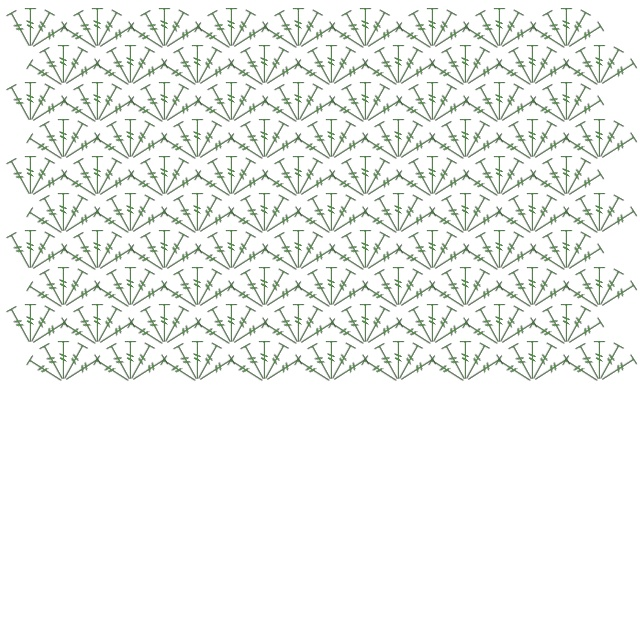fan: (27, 19, 70, 54), (59, 19, 102, 54), (94, 19, 137, 54), (126, 19, 169, 54), (161, 19, 204, 54), (193, 19, 236, 54), (228, 19, 271, 54), (260, 19, 303, 54), (295, 19, 338, 54), (327, 19, 370, 54), (362, 19, 405, 54), (394, 19, 437, 54), (429, 19, 472, 54), (461, 19, 504, 54), (496, 19, 539, 54), (528, 19, 571, 54), (563, 19, 606, 54), (25, 56, 68, 91), (60, 56, 103, 91), (92, 56, 135, 91), (127, 56, 170, 91), (159, 56, 202, 91), (194, 56, 237, 91), (226, 56, 269, 91), (261, 56, 304, 91), (293, 56, 336, 91), (328, 56, 371, 91), (360, 56, 403, 91), (395, 56, 438, 91), (427, 56, 470, 91), (462, 56, 505, 91), (494, 56, 537, 91), (529, 56, 572, 91), (561, 56, 604, 91), (596, 56, 639, 91), (27, 93, 70, 128), (59, 93, 102, 128), (94, 93, 137, 128), (126, 93, 169, 128), (161, 93, 204, 128), (193, 93, 236, 128), (228, 93, 271, 128), (260, 93, 303, 128), (295, 93, 338, 128), (327, 93, 370, 128), (362, 93, 405, 128), (394, 93, 437, 128), (429, 93, 472, 128), (461, 93, 504, 128), (496, 93, 539, 128), (528, 93, 571, 128), (563, 93, 606, 128), (25, 130, 68, 165), (60, 130, 103, 165), (92, 130, 135, 165), (127, 130, 170, 165), (159, 130, 202, 165), (194, 130, 237, 165), (226, 130, 269, 165), (261, 130, 304, 165), (293, 130, 336, 165), (328, 130, 371, 165), (360, 130, 403, 165), (395, 130, 438, 165), (427, 130, 470, 165), (462, 130, 505, 165), (494, 130, 537, 165), (529, 130, 572, 165), (561, 130, 604, 165), (596, 130, 639, 165), (27, 167, 70, 202), (59, 167, 102, 202), (94, 167, 137, 202), (126, 167, 169, 202), (161, 167, 204, 202), (193, 167, 236, 202), (228, 167, 271, 202), (260, 167, 303, 202), (295, 167, 338, 202), (327, 167, 370, 202), (362, 167, 405, 202), (394, 167, 437, 202), (429, 167, 472, 202), (461, 167, 504, 202), (496, 167, 539, 202), (528, 167, 571, 202), (563, 167, 606, 202), (25, 204, 68, 239), (60, 204, 103, 239), (92, 204, 135, 239), (127, 204, 170, 239), (159, 204, 202, 239), (194, 204, 237, 239), (226, 204, 269, 239), (261, 204, 304, 239), (293, 204, 336, 239), (328, 204, 371, 239), (360, 204, 403, 239), (395, 204, 438, 239), (427, 204, 470, 239), (462, 204, 505, 239), (494, 204, 537, 239), (529, 204, 572, 239), (561, 204, 604, 239), (596, 204, 639, 239), (27, 241, 70, 276), (59, 241, 102, 276), (94, 241, 137, 276), (126, 241, 169, 276), (161, 241, 204, 276), (193, 241, 236, 276), (228, 241, 271, 276), (260, 241, 303, 276), (295, 241, 338, 276), (327, 241, 370, 276), (362, 241, 405, 276), (394, 241, 437, 276), (429, 241, 472, 276), (461, 241, 504, 276), (496, 241, 539, 276), (528, 241, 571, 276), (563, 241, 606, 276), (25, 278, 68, 313), (60, 278, 103, 313), (92, 278, 135, 313), (127, 278, 170, 313), (159, 278, 202, 313), (194, 278, 237, 313), (226, 278, 269, 313), (261, 278, 304, 313), (293, 278, 336, 313), (328, 278, 371, 313), (360, 278, 403, 313), (395, 278, 438, 313), (427, 278, 470, 313), (462, 278, 505, 313), (494, 278, 537, 313), (529, 278, 572, 313), (561, 278, 604, 313), (596, 278, 639, 313), (27, 315, 70, 350), (59, 315, 102, 350), (94, 315, 137, 350), (126, 315, 169, 350), (161, 315, 204, 350), (193, 315, 236, 350), (228, 315, 271, 350), (260, 315, 303, 350), (295, 315, 338, 350), (327, 315, 370, 350), (362, 315, 405, 350), (394, 315, 437, 350), (429, 315, 472, 350), (461, 315, 504, 350), (496, 315, 539, 350), (528, 315, 571, 350), (563, 315, 606, 350), (25, 352, 68, 387), (60, 352, 103, 387), (92, 352, 135, 387), (127, 352, 170, 387), (159, 352, 202, 387), (194, 352, 237, 387), (226, 352, 269, 387), (261, 352, 304, 387), (293, 352, 336, 387), (328, 352, 371, 387), (360, 352, 403, 387), (395, 352, 438, 387), (427, 352, 470, 387), (462, 352, 505, 387), (494, 352, 537, 387), (529, 352, 572, 387), (561, 352, 604, 387), (596, 352, 639, 387), (4, 8, 38, 52), (24, 8, 58, 52), (71, 8, 105, 52), (91, 8, 125, 52), (138, 8, 172, 52), (158, 8, 192, 52), (205, 8, 239, 52), (225, 8, 259, 52), (272, 8, 306, 52), (292, 8, 326, 52), (339, 8, 373, 52), (359, 8, 393, 52), (406, 8, 440, 52), (426, 8, 460, 52), (473, 8, 507, 52), (493, 8, 527, 52), (540, 8, 574, 52), (560, 8, 594, 52), (37, 45, 71, 89), (57, 45, 91, 89), (104, 45, 138, 89), (124, 45, 158, 89), (171, 45, 205, 89), (191, 45, 225, 89), (238, 45, 272, 89), (258, 45, 292, 89), (305, 45, 339, 89), (325, 45, 359, 89), (372, 45, 406, 89), (392, 45, 426, 89), (439, 45, 473, 89), (459, 45, 493, 89), (506, 45, 540, 89), (526, 45, 560, 89), (573, 45, 607, 89), (593, 45, 627, 89), (4, 82, 38, 126), (24, 82, 58, 126), (71, 82, 105, 126), (91, 82, 125, 126), (138, 82, 172, 126), (158, 82, 192, 126), (205, 82, 239, 126), (225, 82, 259, 126), (272, 82, 306, 126), (292, 82, 326, 126), (339, 82, 373, 126), (359, 82, 393, 126), (406, 82, 440, 126), (426, 82, 460, 126), (473, 82, 507, 126), (493, 82, 527, 126), (540, 82, 574, 126), (560, 82, 594, 126), (37, 119, 71, 163), (57, 119, 91, 163), (104, 119, 138, 163), (124, 119, 158, 163), (171, 119, 205, 163), (191, 119, 225, 163), (238, 119, 272, 163), (258, 119, 292, 163), (305, 119, 339, 163), (325, 119, 359, 163), (372, 119, 406, 163), (392, 119, 426, 163), (439, 119, 473, 163), (459, 119, 493, 163), (506, 119, 540, 163), (526, 119, 560, 163), (573, 119, 607, 163), (593, 119, 627, 163), (4, 156, 38, 200), (24, 156, 58, 200), (71, 156, 105, 200), (91, 156, 125, 200), (138, 156, 172, 200), (158, 156, 192, 200), (205, 156, 239, 200), (225, 156, 259, 200), (272, 156, 306, 200), (292, 156, 326, 200), (339, 156, 373, 200), (359, 156, 393, 200), (406, 156, 440, 200), (426, 156, 460, 200), (473, 156, 507, 200), (493, 156, 527, 200), (540, 156, 574, 200), (560, 156, 594, 200), (37, 193, 71, 237), (57, 193, 91, 237), (104, 193, 138, 237), (124, 193, 158, 237), (171, 193, 205, 237), (191, 193, 225, 237), (238, 193, 272, 237), (258, 193, 292, 237), (305, 193, 339, 237), (325, 193, 359, 237), (372, 193, 406, 237), (392, 193, 426, 237), (439, 193, 473, 237), (459, 193, 493, 237), (506, 193, 540, 237), (526, 193, 560, 237), (573, 193, 607, 237), (593, 193, 627, 237), (4, 230, 38, 274), (24, 230, 58, 274), (71, 230, 105, 274), (91, 230, 125, 274), (138, 230, 172, 274), (158, 230, 192, 274), (205, 230, 239, 274), (225, 230, 259, 274), (272, 230, 306, 274), (292, 230, 326, 274), (339, 230, 373, 274), (359, 230, 393, 274), (406, 230, 440, 274), (426, 230, 460, 274), (473, 230, 507, 274), (493, 230, 527, 274), (540, 230, 574, 274), (560, 230, 594, 274), (37, 267, 71, 311), (57, 267, 91, 311), (104, 267, 138, 311), (124, 267, 158, 311), (171, 267, 205, 311), (191, 267, 225, 311), (238, 267, 272, 311), (258, 267, 292, 311), (305, 267, 339, 311), (325, 267, 359, 311), (372, 267, 406, 311), (392, 267, 426, 311), (439, 267, 473, 311), (459, 267, 493, 311), (506, 267, 540, 311), (526, 267, 560, 311), (573, 267, 607, 311), (593, 267, 627, 311), (4, 304, 38, 348), (24, 304, 58, 348), (71, 304, 105, 348), (91, 304, 125, 348), (138, 304, 172, 348), (158, 304, 192, 348), (205, 304, 239, 348), (225, 304, 259, 348), (272, 304, 306, 348), (292, 304, 326, 348), (339, 304, 373, 348), (359, 304, 393, 348), (406, 304, 440, 348), (426, 304, 460, 348), (473, 304, 507, 348), (493, 304, 527, 348), (540, 304, 574, 348), (560, 304, 594, 348), (37, 341, 71, 385), (57, 341, 91, 385), (104, 341, 138, 385), (124, 341, 158, 385), (171, 341, 205, 385), (191, 341, 225, 385), (238, 341, 272, 385), (258, 341, 292, 385), (305, 341, 339, 385), (325, 341, 359, 385), (372, 341, 406, 385), (392, 341, 426, 385), (439, 341, 473, 385), (459, 341, 493, 385), (506, 341, 540, 385), (526, 341, 560, 385), (573, 341, 607, 385), (593, 341, 627, 385), (90, 6, 106, 48), (224, 6, 240, 48), (358, 6, 374, 48), (492, 6, 508, 48), (56, 43, 72, 85), (190, 43, 206, 85), (324, 43, 340, 85), (458, 43, 474, 85), (592, 43, 608, 85), (90, 80, 106, 122), (224, 80, 240, 122), (358, 80, 374, 122), (492, 80, 508, 122), (56, 117, 72, 159), (190, 117, 206, 159), (324, 117, 340, 159), (458, 117, 474, 159), (592, 117, 608, 159), (90, 154, 106, 196), (224, 154, 240, 196), (358, 154, 374, 196), (492, 154, 508, 196), (56, 191, 72, 233), (190, 191, 206, 233), (324, 191, 340, 233), (458, 191, 474, 233), (592, 191, 608, 233), (90, 228, 106, 270), (224, 228, 240, 270), (358, 228, 374, 270), (492, 228, 508, 270), (56, 265, 72, 307), (190, 265, 206, 307), (324, 265, 340, 307), (458, 265, 474, 307), (592, 265, 608, 307), (90, 302, 106, 344), (224, 302, 240, 344), (358, 302, 374, 344), (492, 302, 508, 344), (56, 339, 72, 381), (190, 339, 206, 381), (324, 339, 340, 381), (458, 339, 474, 381), (592, 339, 608, 381), (24, 6, 38, 48), (158, 6, 172, 48), (292, 6, 306, 48), (426, 6, 440, 48), (560, 6, 574, 48), (124, 43, 138, 85), (258, 43, 272, 85), (392, 43, 406, 85), (526, 43, 540, 85), (24, 80, 38, 122), (158, 80, 172, 122), (292, 80, 306, 122), (426, 80, 440, 122), (560, 80, 574, 122), (124, 117, 138, 159), (258, 117, 272, 159), (392, 117, 406, 159), (526, 117, 540, 159), (24, 154, 38, 196), (158, 154, 172, 196), (292, 154, 306, 196), (426, 154, 440, 196), (560, 154, 574, 196), (124, 191, 138, 233), (258, 191, 272, 233), (392, 191, 406, 233), (526, 191, 540, 233), (24, 228, 38, 270), (158, 228, 172, 270), (292, 228, 306, 270), (426, 228, 440, 270), (560, 228, 574, 270), (124, 265, 138, 307), (258, 265, 272, 307), (392, 265, 406, 307), (526, 265, 540, 307), (24, 302, 38, 344), (158, 302, 172, 344), (292, 302, 306, 344), (426, 302, 440, 344), (560, 302, 574, 344), (124, 339, 138, 381), (258, 339, 272, 381), (392, 339, 406, 381), (526, 339, 540, 381)
